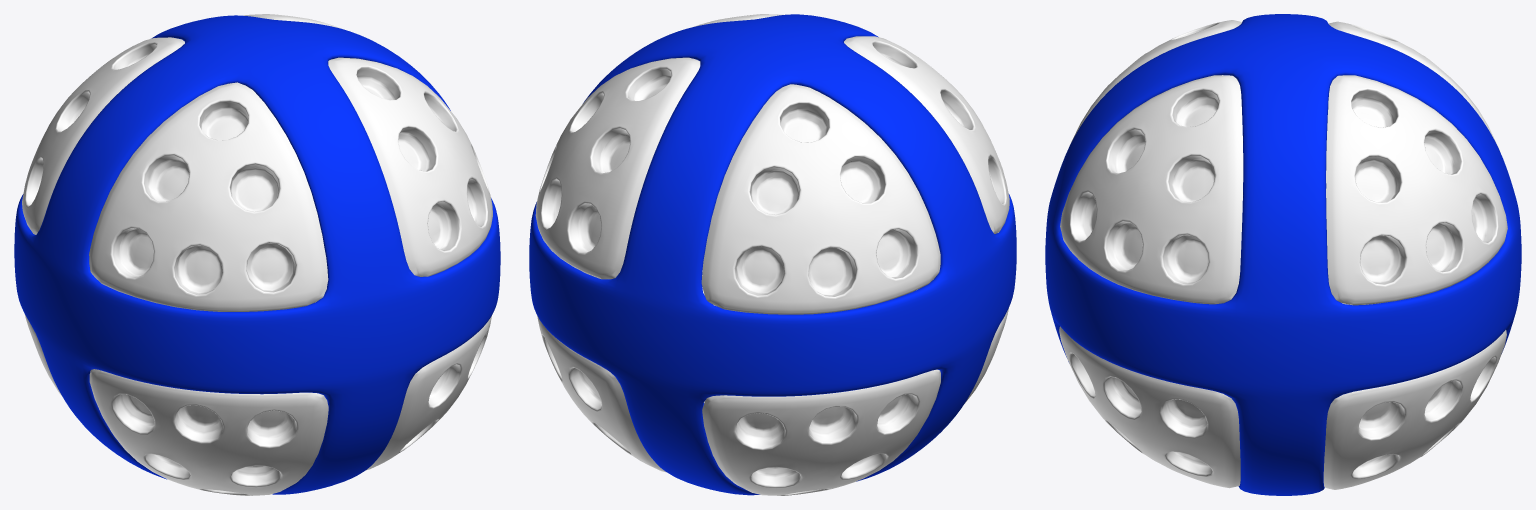
Rendered from gp_ball.glb.
The picture shows the model from 3 angles, left to right: view 1: azimuth 30°, elevation 25°; view 2: azimuth 150°, elevation 25°; view 3: azimuth 270°, elevation 25°; orthographic projection.
Visible parts, largest first — view 1: ball; view 2: ball; view 3: ball.
Part boxes in pixels (<box>): ball: <box>14,14,500,495</box>; ball: <box>529,14,1016,495</box>; ball: <box>1045,14,1521,495</box>.
Size of the model in its own units: 0.0774 by 0.0772 by 0.0774.
